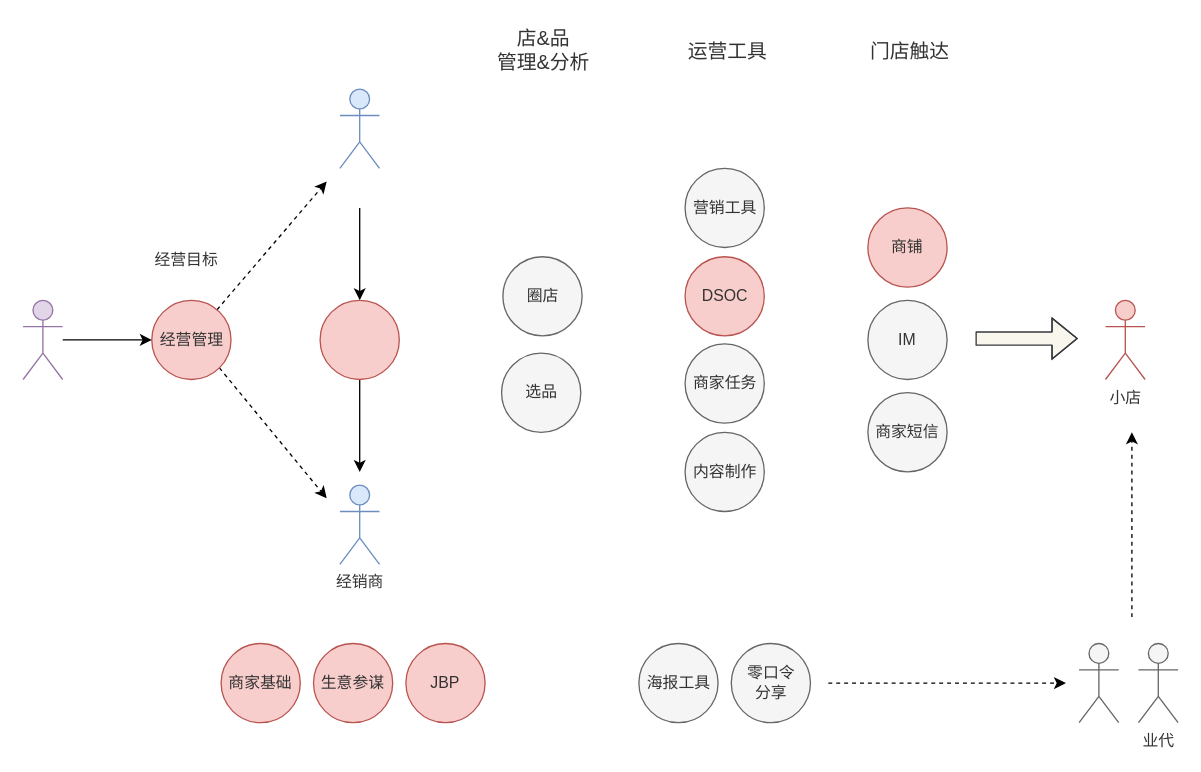
The diagram is 1201 pixels wide and 772 high, and some of its shapes have lost their labels. Each missing label, with the box of its shape:
品牌商: (339, 88, 380, 168)
品牌渠道管理: (319, 299, 399, 380)
小二: (22, 299, 63, 380)
拍档: (1078, 642, 1119, 723)
